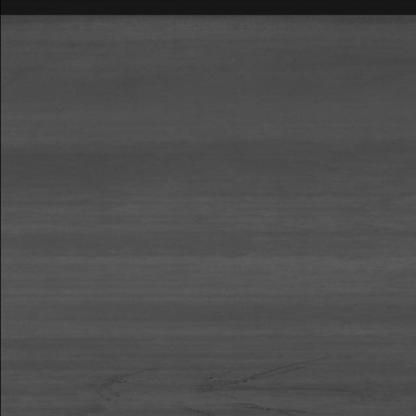water_spot: (90, 358, 354, 416)
